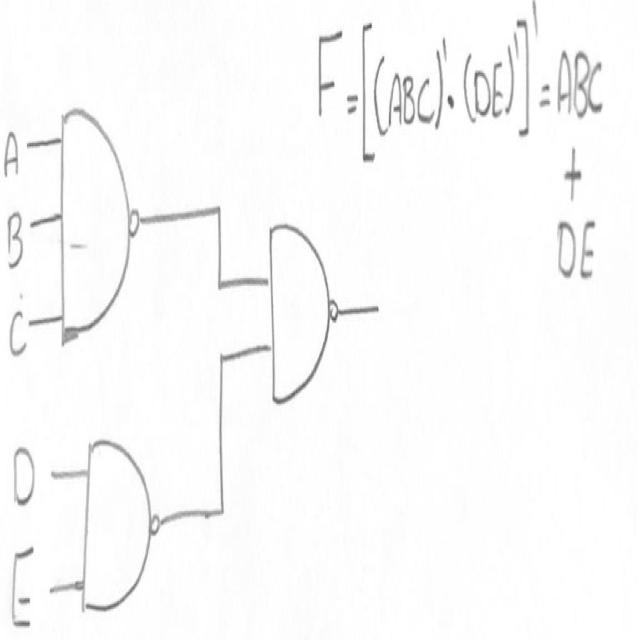NAND: (53, 95, 143, 375), (257, 203, 344, 442), (72, 426, 173, 624)
